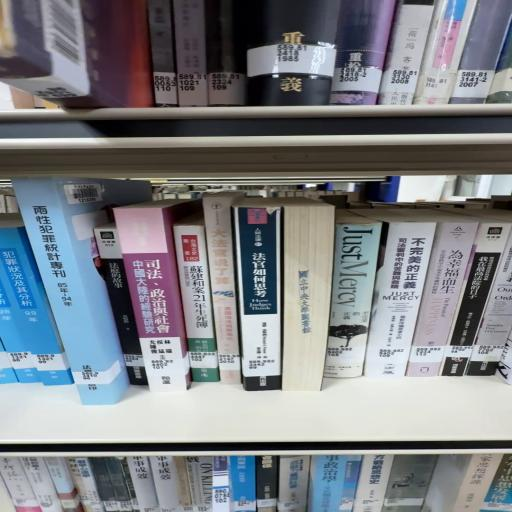backward: (281, 198, 335, 391)
book: (5, 180, 132, 410), (172, 222, 218, 388), (172, 2, 208, 110), (147, 0, 178, 108)
